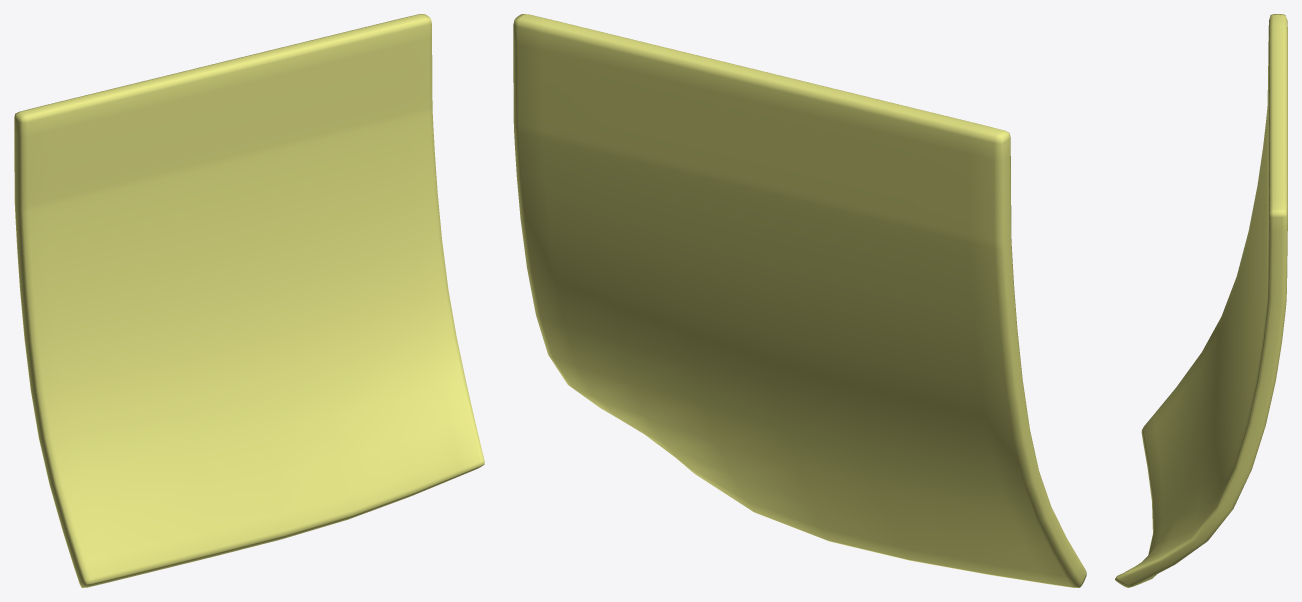
Rendered from SM_StickyNote_01.fbx.
3 views of the same model, side by side, from view 1: azimuth 30°, elevation 25°; view 2: azimuth 150°, elevation 25°; view 3: azimuth 270°, elevation 25° (orthographic). The views are drawn at different scales.
Parts seen in each view (by area): view 1: SM_StickyNote_01; view 2: SM_StickyNote_01; view 3: SM_StickyNote_01.
Boxes of the visible parts, left/top/right/bottom form: SM_StickyNote_01: left=14, top=14, right=484, bottom=587; SM_StickyNote_01: left=513, top=14, right=1086, bottom=587; SM_StickyNote_01: left=1115, top=14, right=1287, bottom=587.
Bounding box in the file's own units: 20 × 20.14 × 7.32.
